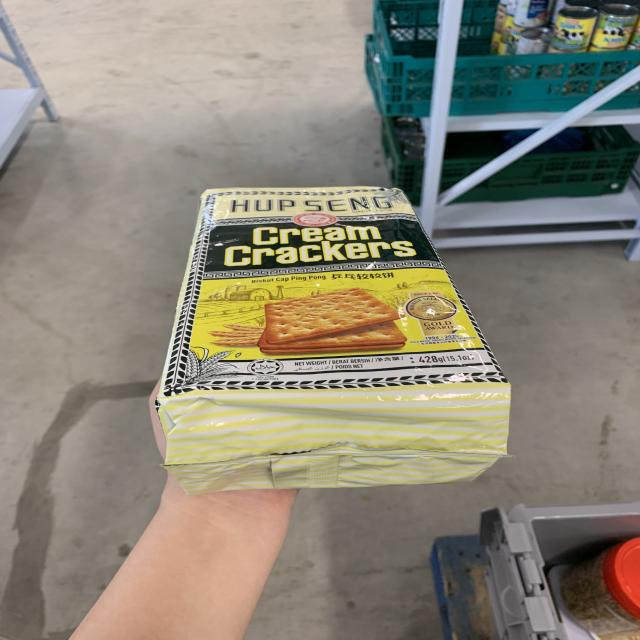object_name: (166, 183, 486, 481)
